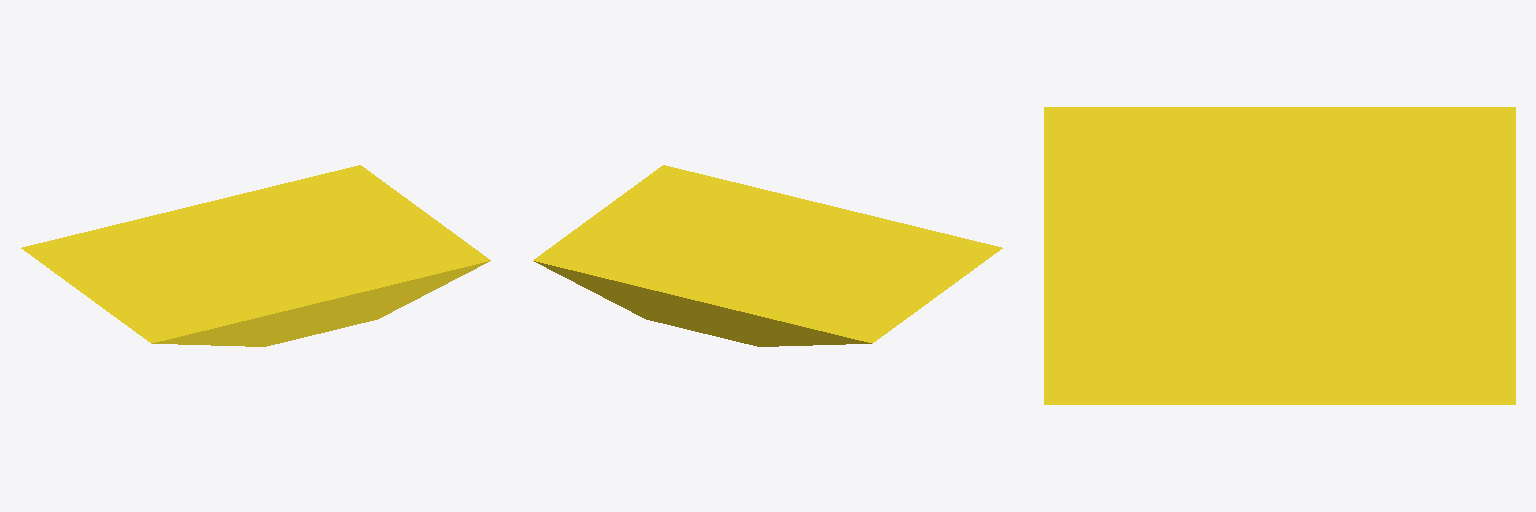
URDF robot description (wedge.SLDPRT):
<?xml version="1.0" encoding="utf-8"?>
<!-- This URDF was automatically created by SolidWorks to URDF Exporter! Originally created by [author] ([email redacted]) 
     Commit Version: 1.5.1-0-g916b5db  Build Version: 1.5.7152.31018
     For more information, please see http://wiki.ros.org/sw_urdf_exporter -->
<robot
  name="wedge.SLDPRT">
  <link
    name="wedge_15.SLDPRT">
    <inertial>
      <origin
        xyz="-2.6518E-17 1.35925188307573E-16 0.021806"
        rpy="0 0 0" />
      <mass
        value="1046.7" />
      <inertia
        ixx="354.36"
        ixy="8.0502E-15"
        ixz="-4.942E-15"
        iyy="441.59"
        iyz="1.79553033983071E-14"
        izz="785" />
    </inertial>
    <visual>
      <origin
        xyz="0 0 0"
        rpy="1.5707963267949 0 0" />
      <geometry>
        <mesh
          filename="package://wedge_15.SLDPRT/meshes/wedge_15.SLDPRT.STL" />
      </geometry>
      <material
        name="">
        <color
          rgba="1 0.9 0.2 1" />
        <texture
          filename="package://wedge_15.SLDPRT/textures/" />
      </material>
    </visual>
    <collision>
      <origin
        xyz="0 0 0"
        rpy="1.5707963267949 0 0" />
      <geometry>
        <mesh
          filename="package://wedge_15.SLDPRT/meshes/wedge_15.SLDPRT.STL" />
      </geometry>
    </collision>
  </link>
</robot>

--- What the picture shows (computed from the rendered views, not written in the file) ---
Views: 3 orthographic renders of the robot side by side, from view 1: azimuth 30°, elevation 25°; view 2: azimuth 150°, elevation 25°; view 3: azimuth 270°, elevation 25°.
Robot: wedge.SLDPRT — 1 links, 0 joints (none); root link wedge_15.SLDPRT; default pose: every joint at zero.
Visible links, largest first — view 1: wedge_15.SLDPRT; view 2: wedge_15.SLDPRT; view 3: wedge_15.SLDPRT.
Link boxes in pixels (x1,y1,x2,y2): wedge_15.SLDPRT: (21, 165, 490, 346); wedge_15.SLDPRT: (533, 165, 1002, 346); wedge_15.SLDPRT: (1044, 107, 1515, 404).
Size in the robot's own frame: 3 by 2 by 0.2617 metres.
Meshes: 1 distinct files referenced, 1 mesh visuals loaded (1 binary STL).